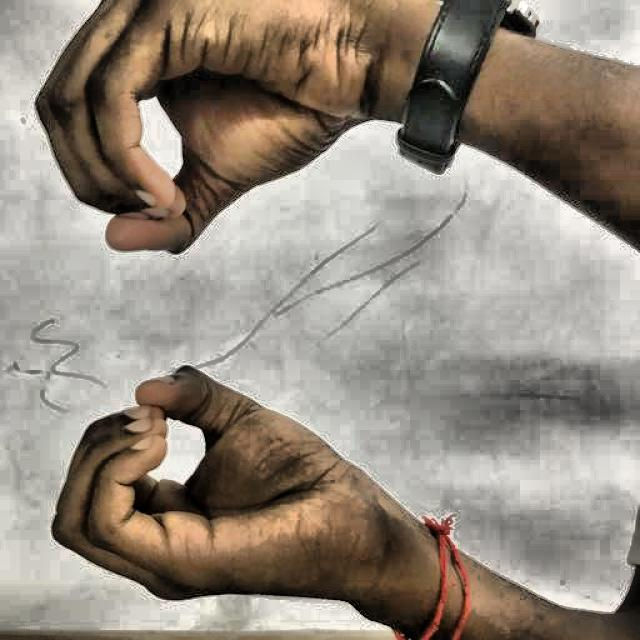Bisharga: (20, 0, 468, 637)
